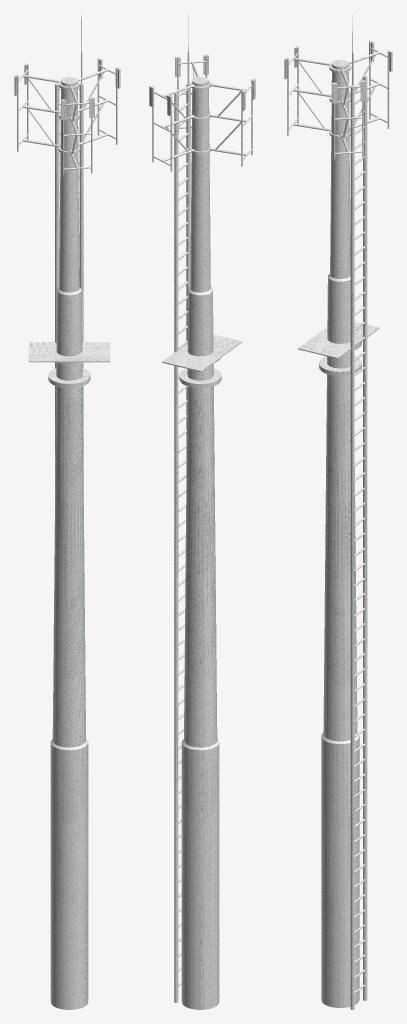
File: 40mMonopole.dae
The picture shows the model from 3 angles, left to right: view 1: azimuth 90°, elevation 25°; view 2: azimuth 150°, elevation 25°; view 3: azimuth 330°, elevation 25°; orthographic projection.
Parts seen in each view (by area): view 1: group_0, Cell_Tower, group_15, group_14, group_1; view 2: group_0, group_15, Cell_Tower, group_14, group_1; view 3: group_0, group_14, group_15, Cell_Tower, group_1.
Boxes of the visible parts, left/top/right/bottom form: group_0: left=50, top=77, right=88, bottom=1009; Cell_Tower: left=28, top=342, right=110, bottom=362; group_15: left=55, top=83, right=59, bottom=486; group_14: left=79, top=83, right=83, bottom=470; group_1: left=48, top=368, right=90, bottom=388; group_0: left=181, top=77, right=219, bottom=1009; group_15: left=174, top=92, right=178, bottom=1002; Cell_Tower: left=162, top=334, right=242, bottom=372; group_14: left=186, top=83, right=190, bottom=470; group_1: left=179, top=368, right=221, bottom=388; group_0: left=321, top=59, right=359, bottom=1007; group_14: left=350, top=84, right=354, bottom=1009; group_15: left=363, top=75, right=367, bottom=1000; Cell_Tower: left=298, top=321, right=379, bottom=358; group_1: left=319, top=356, right=361, bottom=375.
Bounding box in the file's own units: 975 × 1027 × 10400.
